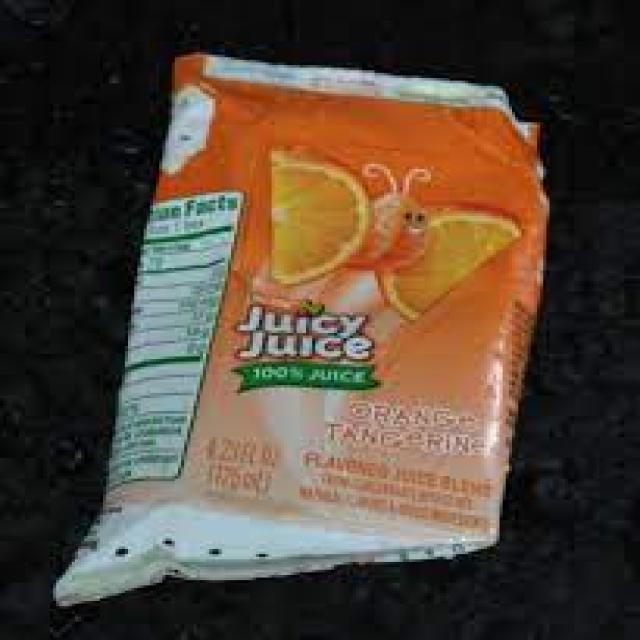cardboard: (46, 50, 550, 617)
